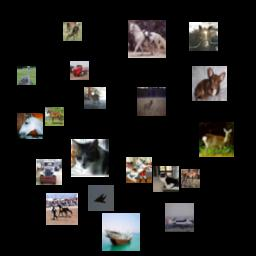airplane: (165, 203, 194, 232), (88, 185, 114, 211)
bird: (17, 66, 36, 85)
cat: (71, 139, 109, 177), (153, 166, 179, 192)
deer: (199, 122, 234, 157), (137, 87, 166, 116), (84, 87, 106, 109), (63, 22, 82, 41)
dog: (192, 66, 227, 101)
ship: (102, 213, 140, 251)
truck: (36, 159, 62, 185), (70, 61, 89, 80)
